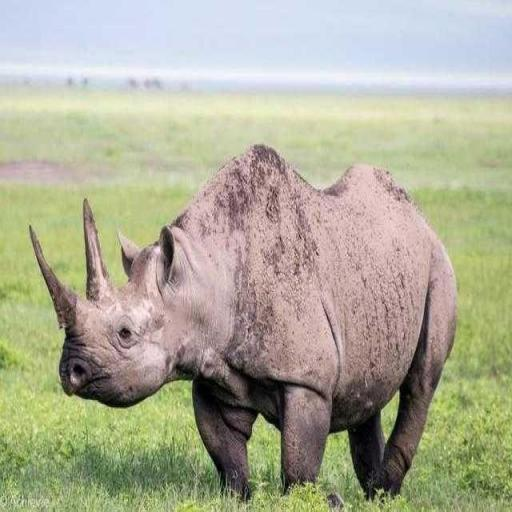Rhino: (28, 140, 458, 508)
